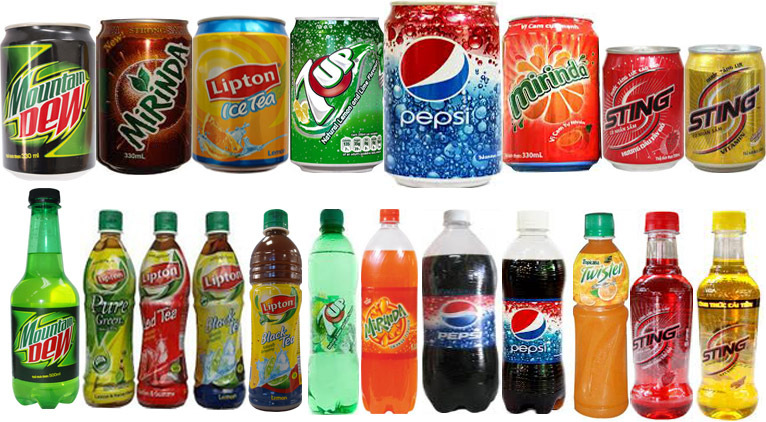pepsi: (399, 34, 468, 98), (510, 307, 546, 339), (439, 299, 477, 326)
